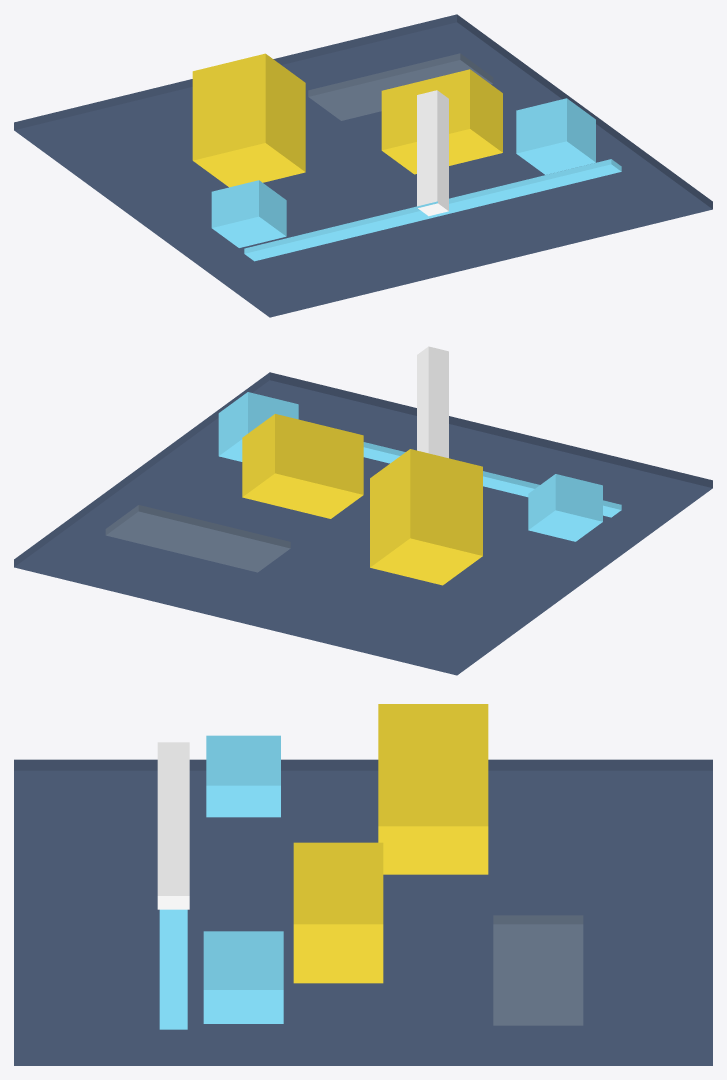
Rendered from presentation-stage.glb.
3 views of the same model, one above another, from view 1: azimuth 30°, elevation 25°; view 2: azimuth 150°, elevation 25°; view 3: azimuth 270°, elevation 25° (orthographic). The views are drawn at different scales.
Parts seen in each view (by area): view 1: environment floor, main structure, secondary structure, route layer, context block b, environment plane, context block a, observation marker; view 2: environment floor, main structure, secondary structure, environment plane, context block a, observation marker, context block b, route layer; view 3: environment floor, main structure, secondary structure, environment plane, context block b, context block a, observation marker, route layer.
Part boxes in pixels (x1,y1,x2,y2): environment floor: (14,14,712,317); main structure: (192,53,305,187); secondary structure: (381,69,502,174); route layer: (244,159,621,261); context block b: (516,98,595,174); environment plane: (308,53,493,120); context block a: (211,180,286,247); observation marker: (417,90,448,216); environment floor: (14,372,712,675); main structure: (370,449,482,585); secondary structure: (242,414,363,518); environment plane: (105,505,290,572); context block a: (528,474,602,541); observation marker: (417,346,448,458); context block b: (218,392,298,461); route layer: (363,442,621,517); environment floor: (14,759,712,1065); main structure: (378,704,488,874); secondary structure: (293,842,383,983); environment plane: (493,915,583,1025); context block b: (203,931,283,1023); context block a: (206,735,280,817); observation marker: (157,742,189,909); route layer: (159,909,187,1029).
Size of the model in its own units: 7 by 1.87 by 7.
